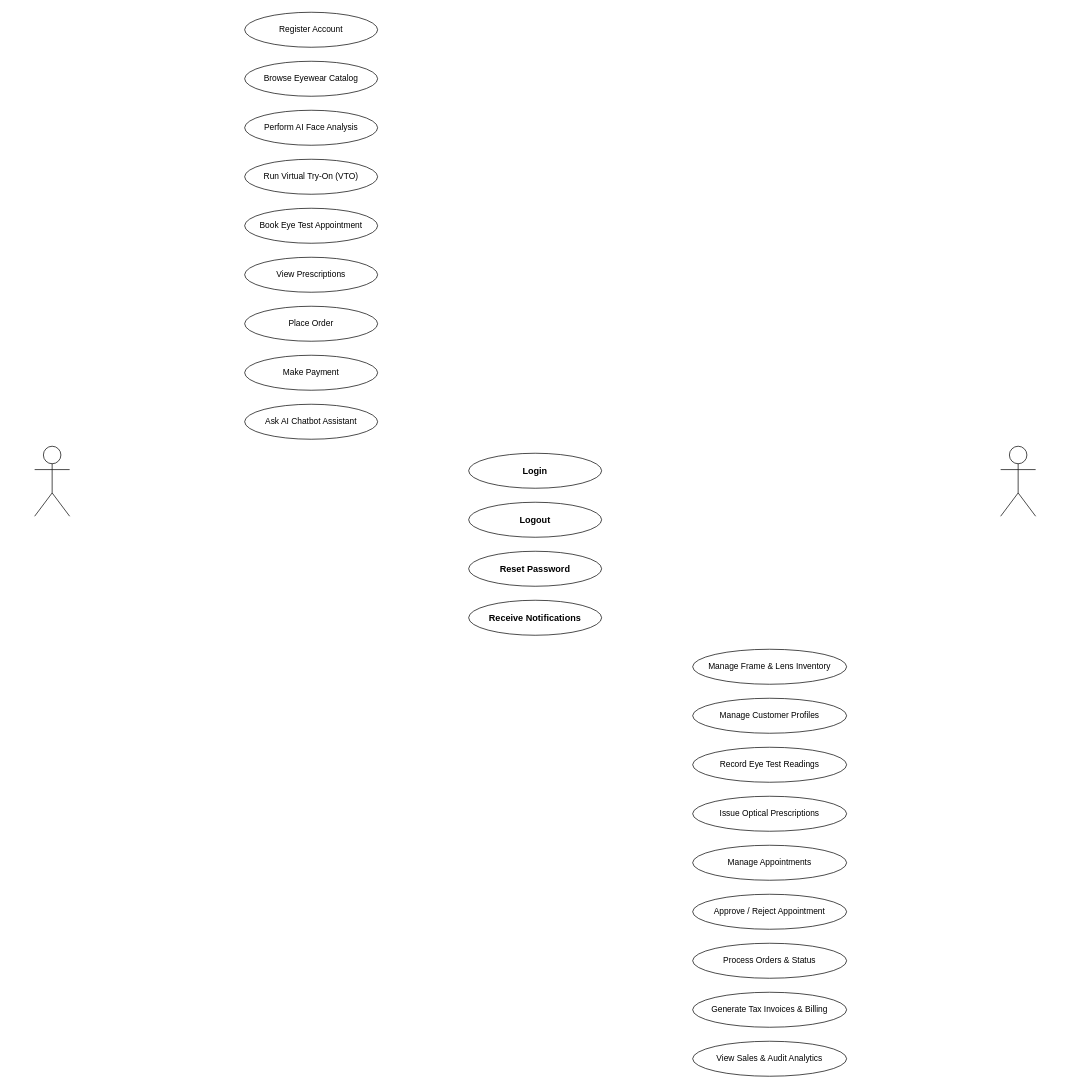
This 1084x1089 diagram has some shape labels left out. The shapes that lost their labels are listed below. From the top down, each one's centre as x and y in pixels, then its label:
the point at 52,481: Customer / Patient
the point at 1018,481: System Admin / Optician
